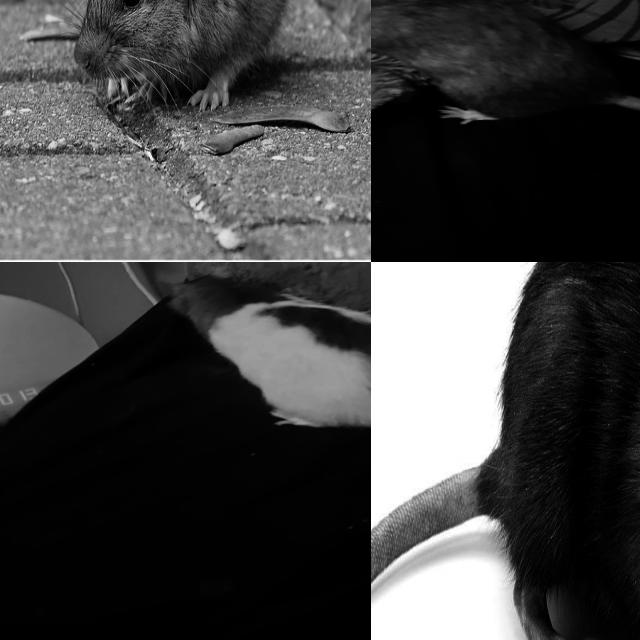rat: (371, 262, 640, 640), (153, 262, 371, 428), (371, 0, 630, 126), (75, 0, 295, 111)
